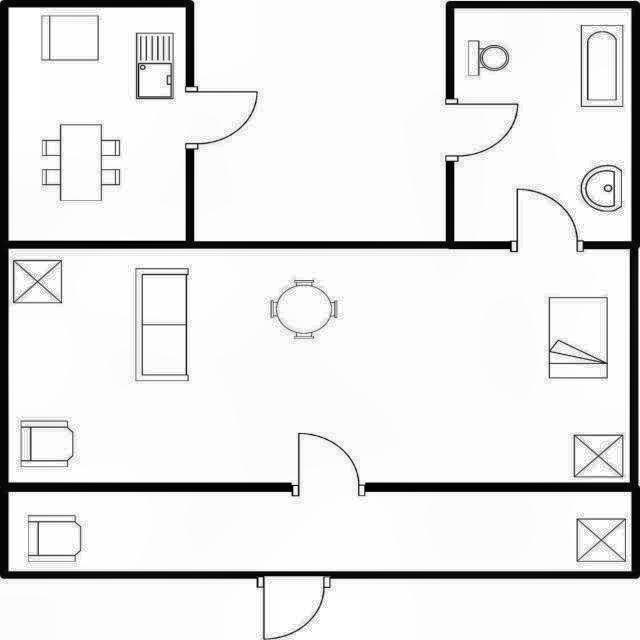room: (9, 248, 630, 484), (8, 492, 632, 571), (454, 8, 632, 242), (8, 7, 186, 240)
